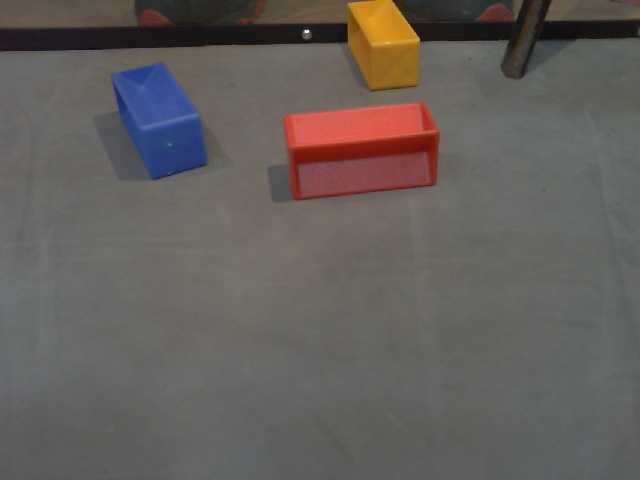BlueSample: (108, 58, 212, 182)
RedSample: (282, 100, 441, 204)
YellowSample: (345, 1, 420, 92)
